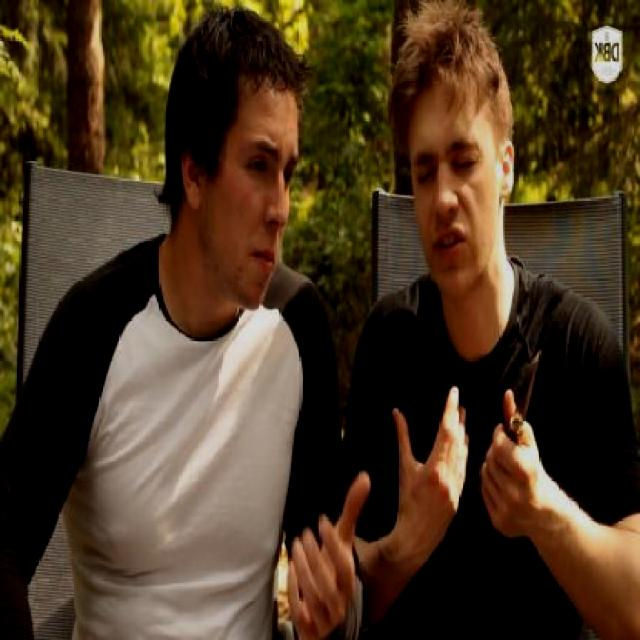knife: (478, 338, 548, 477)
